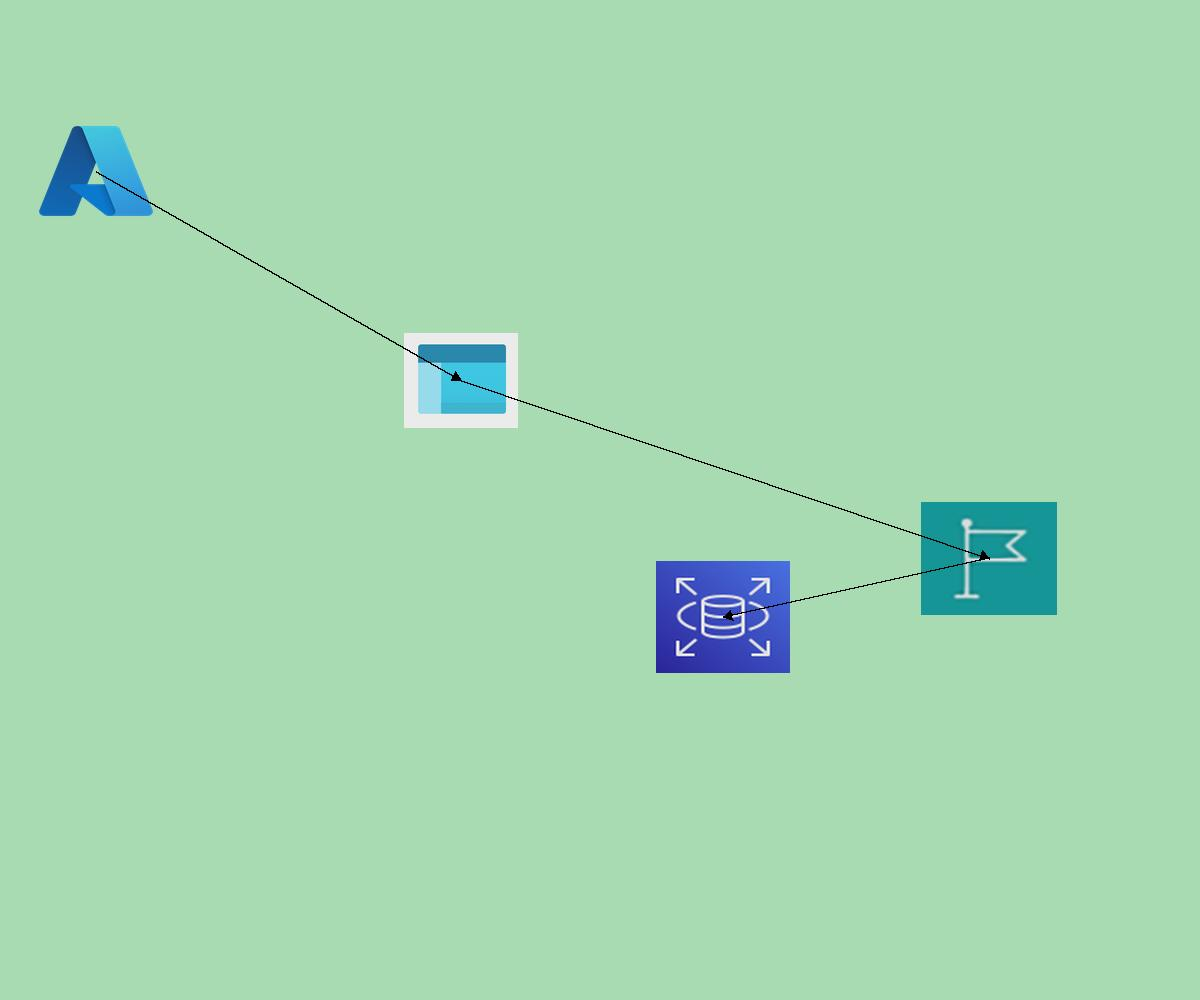AWS-RDS: (656, 561, 790, 673)
AWS-Region: (921, 502, 1057, 615)
Azure_management-portal: (404, 333, 518, 428)
Azure_services: (34, 119, 158, 223)
